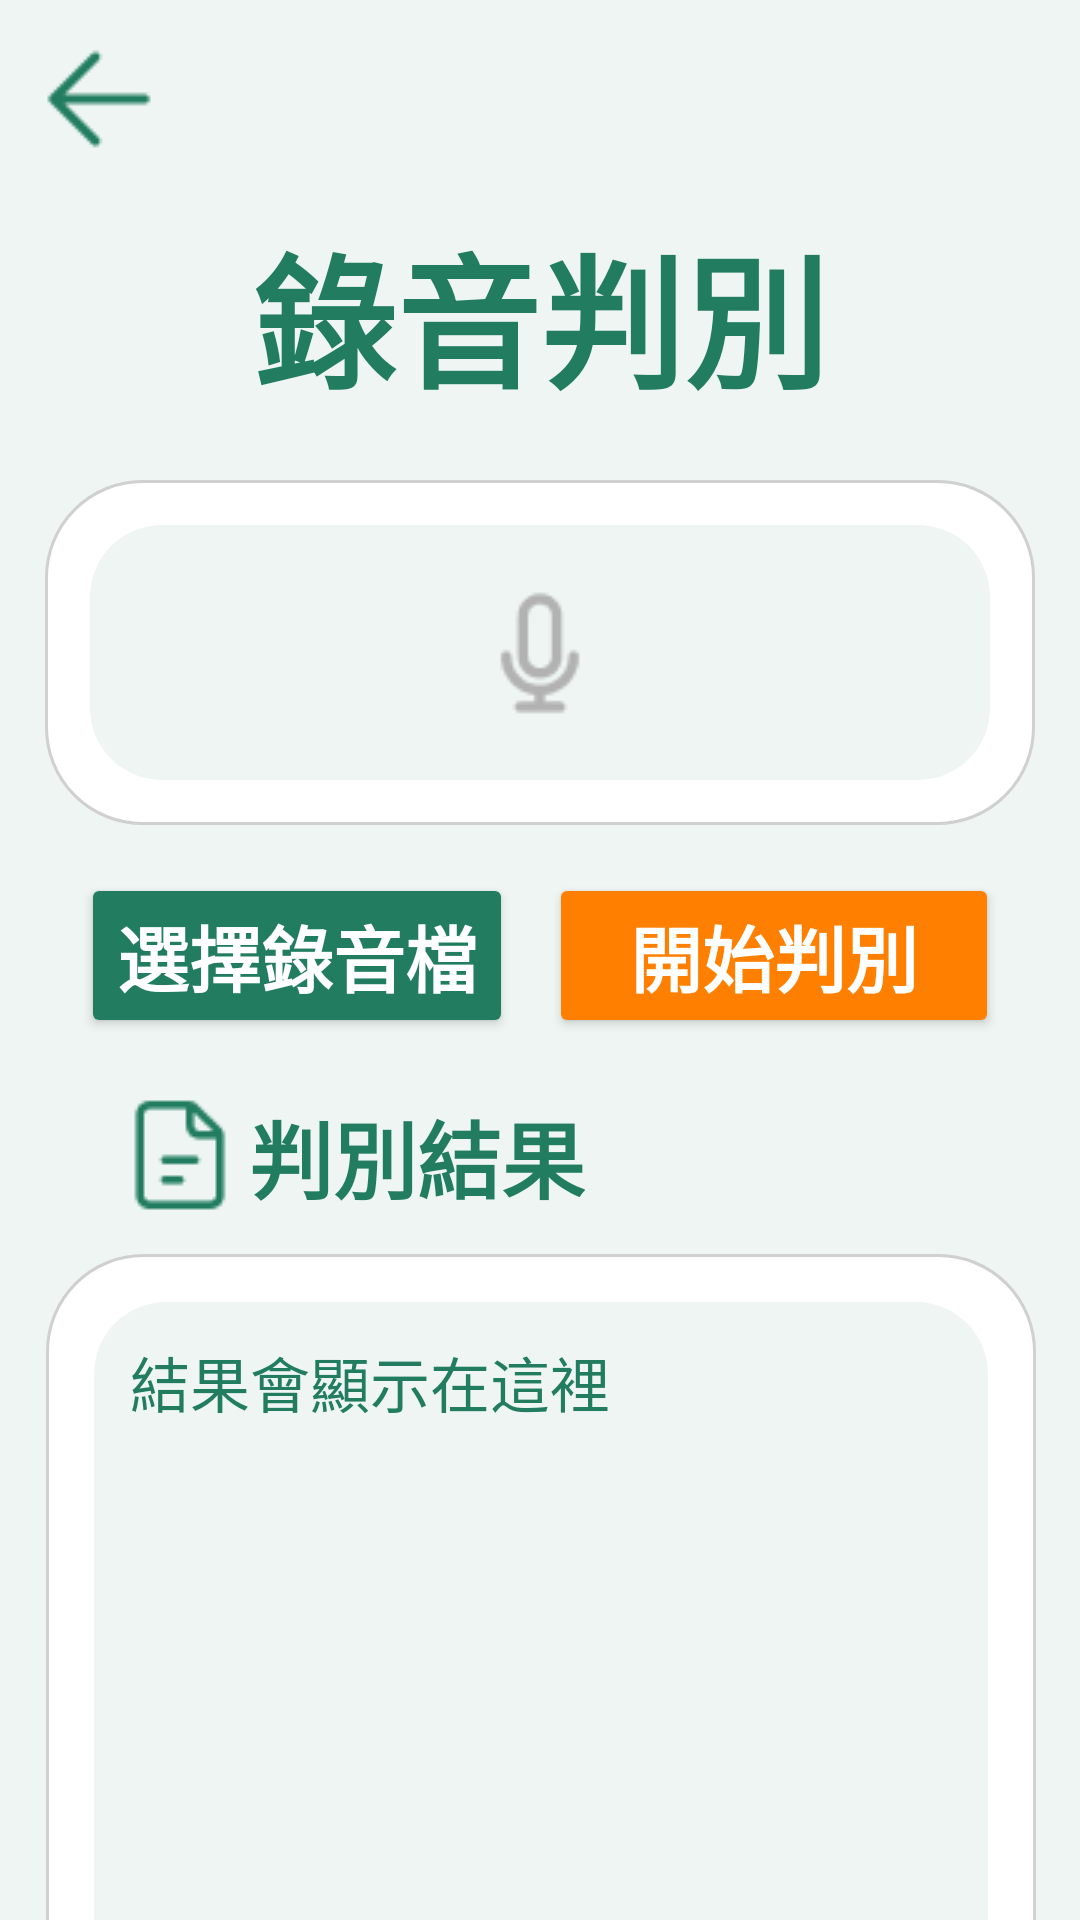

Where to tap for icons on this 1080px×1920px app screen, as [x,y]:
檔案圖示: [180,1155]
返回: [99,99]
麥克風圖示: [540,653]
